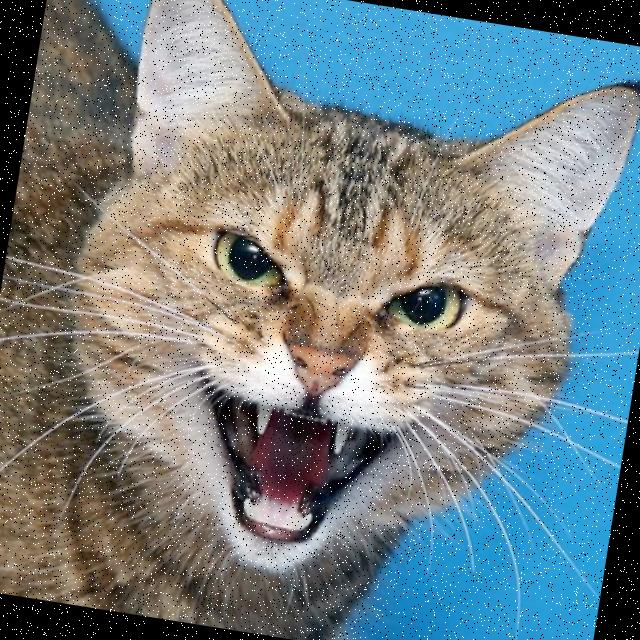Angry: (79, 155, 532, 618)
